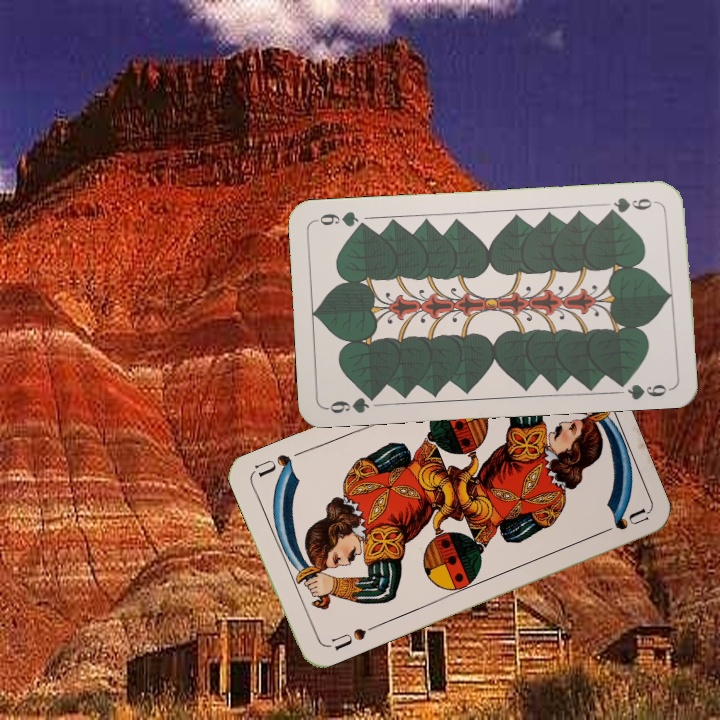G9: (323, 389, 381, 416), (603, 193, 661, 217)
SU: (322, 621, 379, 654)
